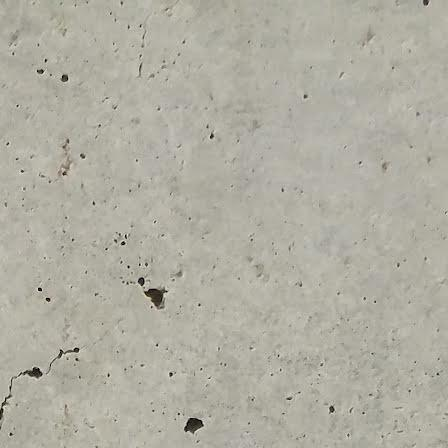crack: (0, 327, 83, 431)
hole: (182, 414, 207, 439)
spalling: (141, 281, 174, 314)
